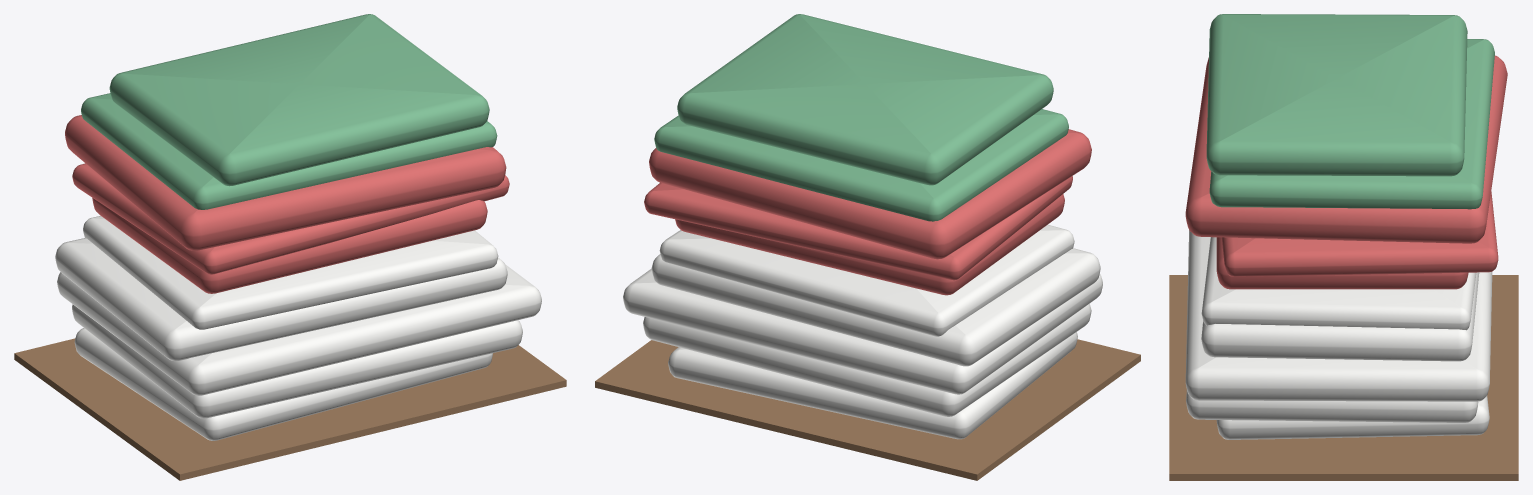
The picture shows the model from 3 angles, left to right: view 1: azimuth 30°, elevation 25°; view 2: azimuth 150°, elevation 25°; view 3: azimuth 270°, elevation 25°; orthographic projection. The views are drawn at different scales.
Parts seen in each view (by area): view 1: tablecloth-stack; view 2: tablecloth-stack; view 3: tablecloth-stack.
Part boxes in pixels (x1,y1,x2,y2): tablecloth-stack: (14,14,566,480); tablecloth-stack: (595,14,1140,480); tablecloth-stack: (1169,14,1518,480).
Size of the model in its own units: 0.62 by 0.444 by 0.46.
